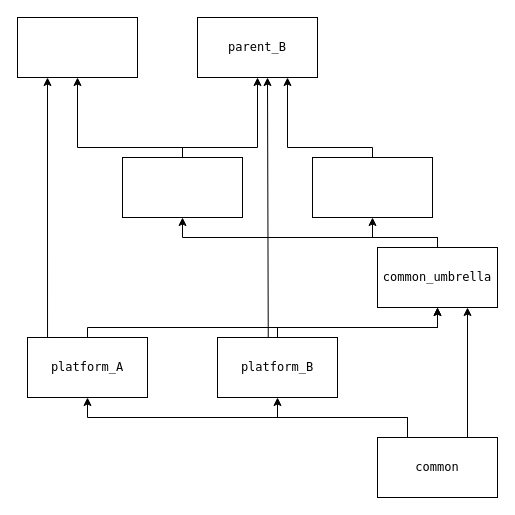
Image size: 515x515. Some labels were removed from this diagram. Here are the shapes that lost their labels. From the top down, the box of each, then its label:
(16, 16, 138, 78): parent_A
(122, 156, 242, 218): util_A
(312, 156, 432, 218): util_B
